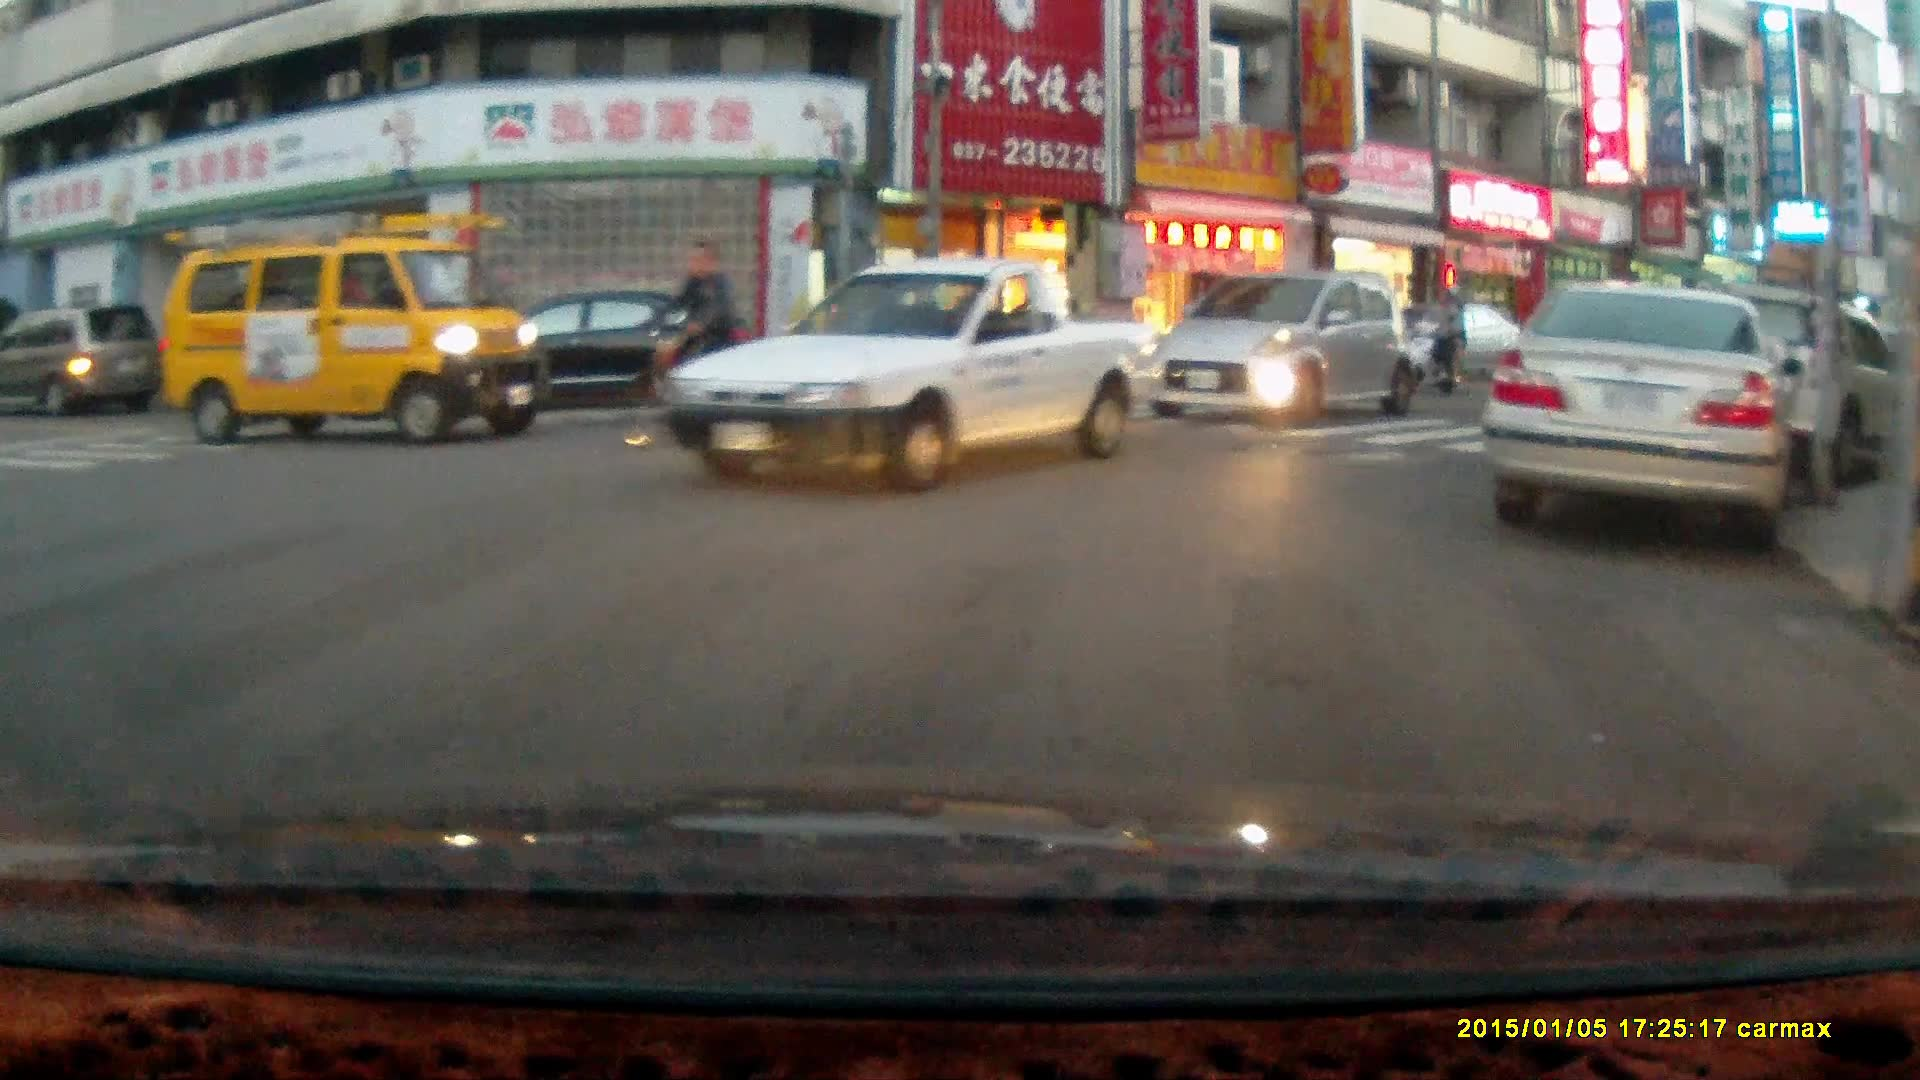rider: (614, 237, 768, 448), (1399, 278, 1468, 396)
vehicle: (664, 255, 1162, 495), (1484, 278, 1813, 561), (158, 213, 545, 448), (1639, 292, 1915, 494), (1144, 271, 1419, 428), (452, 288, 755, 415), (1, 303, 163, 420)
